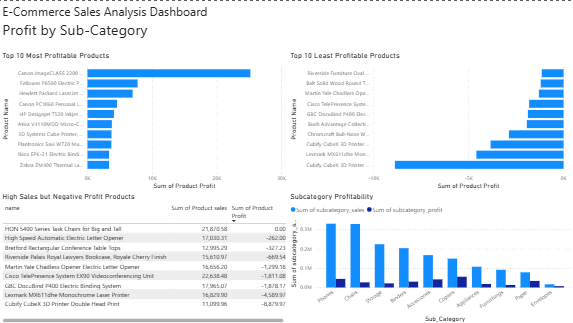

Layout of this report page (visuals, bound fields, positions):
{"tool":"powerbi","page":{"name":"Page 3","canvas":[1280,720],"ordinal":2},"visuals":[{"type":"clusteredBarChart","title":"Top 10 Most Profitable Products","fields":{"Category":["7 Results.Column1"],"Y":["Sum(7 Results.Column2)"]},"box":[0,110,640,314],"z":0},{"type":"clusteredBarChart","title":"Top 10 Least Profitable Products","fields":{"Y":["Sum(7 least profit product Results.Column2)"],"Category":["7 least profit product Results.Column1"]},"box":[640,110,624,314],"z":1000},{"type":"tableEx","title":" High Sales but Negative Profit Products","fields":{"Values":["high sales but neg Results.Column1","Sum(high sales but neg Results.Column2)","Sum(high sales but neg Results.Column3)"]},"box":[0,424,640,296],"z":2000},{"type":"clusteredColumnChart","title":"Subcategory Profitability","fields":{"Category":["last table Results.Sub_Category"],"Y":["Sum(last table Results.subcategory_sales)","Sum(last table Results.subcategory_profit)"]},"box":[640,424,640,296],"z":3000},{"type":"textbox","box":[0,0,506,110],"z":3001}]}

Visuals, with their boxes in screenshot pixels (x1, y1, x2, y2), scaled from the page's 1280x720 canvas onto the 573x323 screenshot:
"Top 10 Most Profitable Products" clusteredBarChart: (0, 49, 286, 190)
"Top 10 Least Profitable Products" clusteredBarChart: (286, 49, 566, 190)
" High Sales but Negative Profit Products" tableEx: (0, 190, 286, 322)
"Subcategory Profitability" clusteredColumnChart: (286, 190, 572, 322)
textbox: (0, 0, 227, 49)
